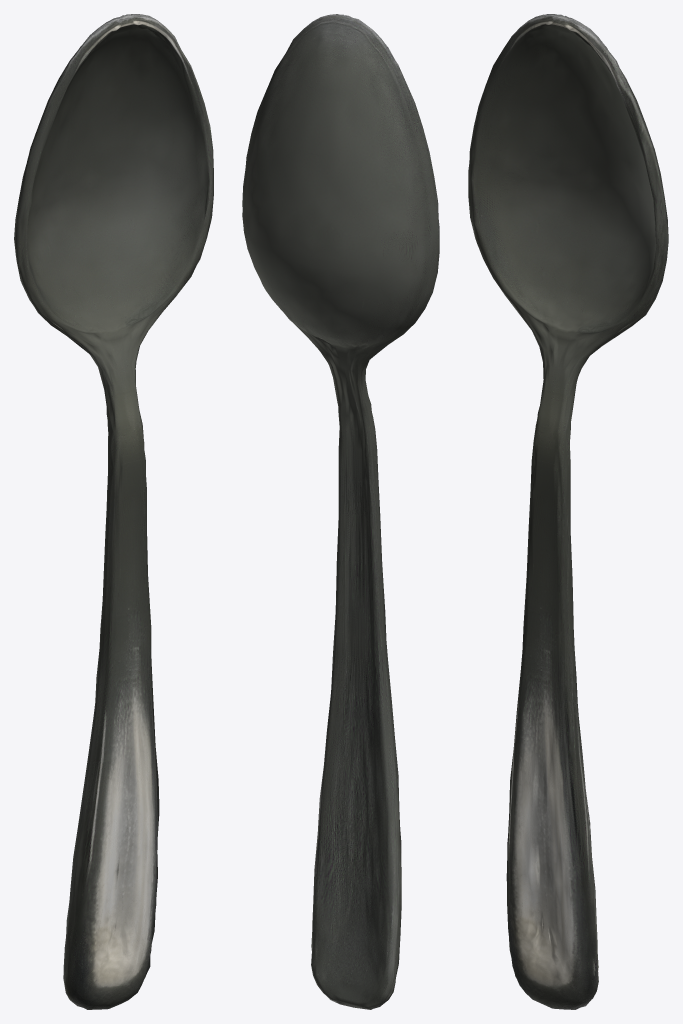
Rendered from Stainless_Steel_Table_spoon0225002844_texture.glb.
The picture shows the model from 3 angles, left to right: view 1: azimuth 30°, elevation 25°; view 2: azimuth 150°, elevation 25°; view 3: azimuth 330°, elevation 25°; orthographic projection.
Visible parts, largest first — view 1: Mesh_0; view 2: Mesh_0; view 3: Mesh_0.
Part boxes in pixels (x1,y1,x2,y2): Mesh_0: [14, 14, 213, 1009]; Mesh_0: [242, 14, 439, 1009]; Mesh_0: [468, 14, 668, 1009].
Size of the model in its own units: 0.0421 by 0.2032 by 0.0196.
1 material, 1 textured.
